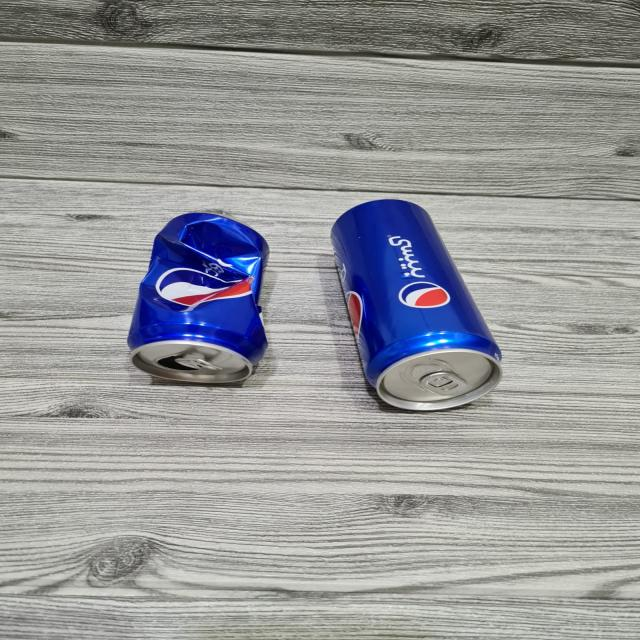non-organic waste: (324, 194, 512, 413), (127, 211, 277, 387)
